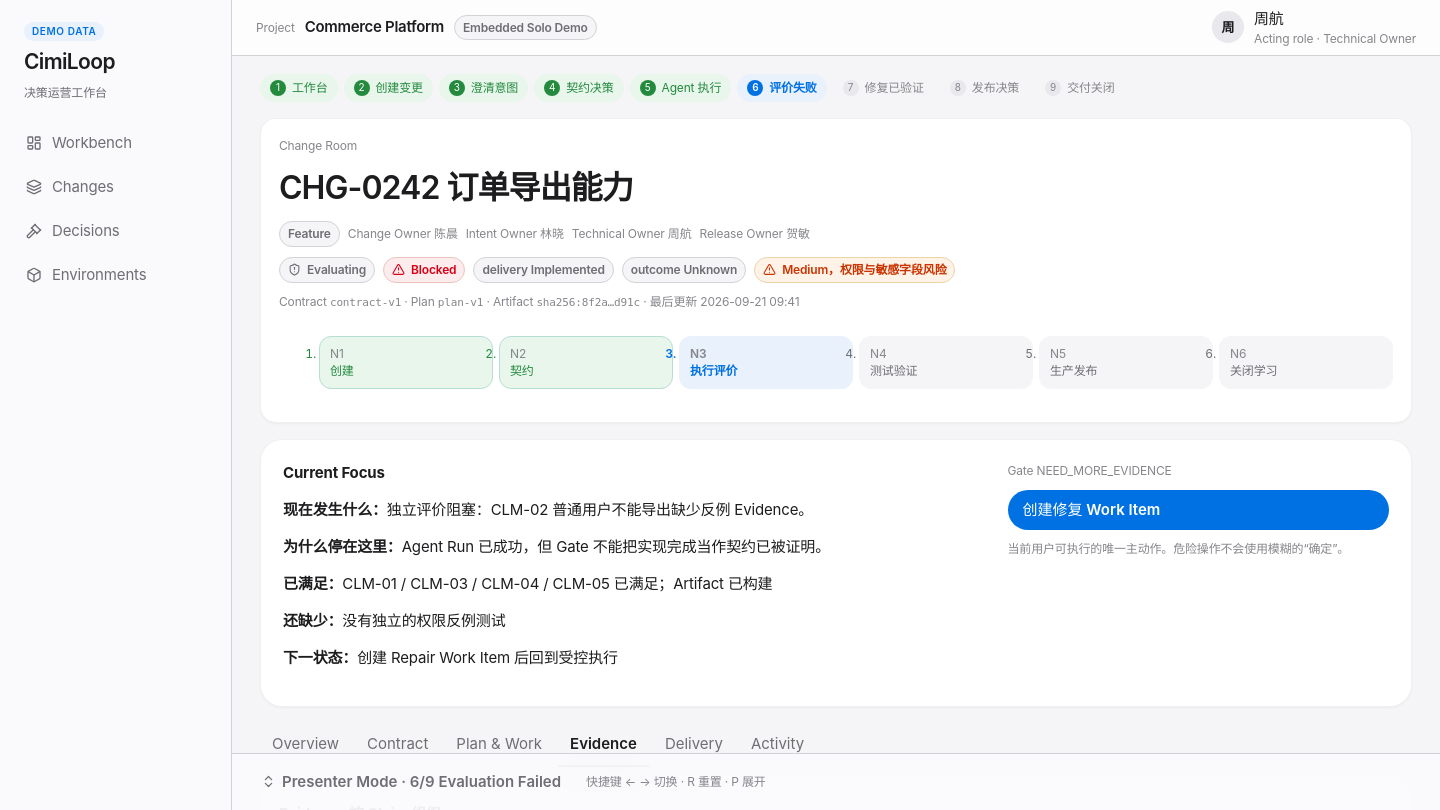
Test case: decision, evidence and delivery flow › marks CLM-02 satisfied after the repair work item completes
Click the button with test id "primary-action".
click(1091, 509)  # box 1008,490 -> 1389,530
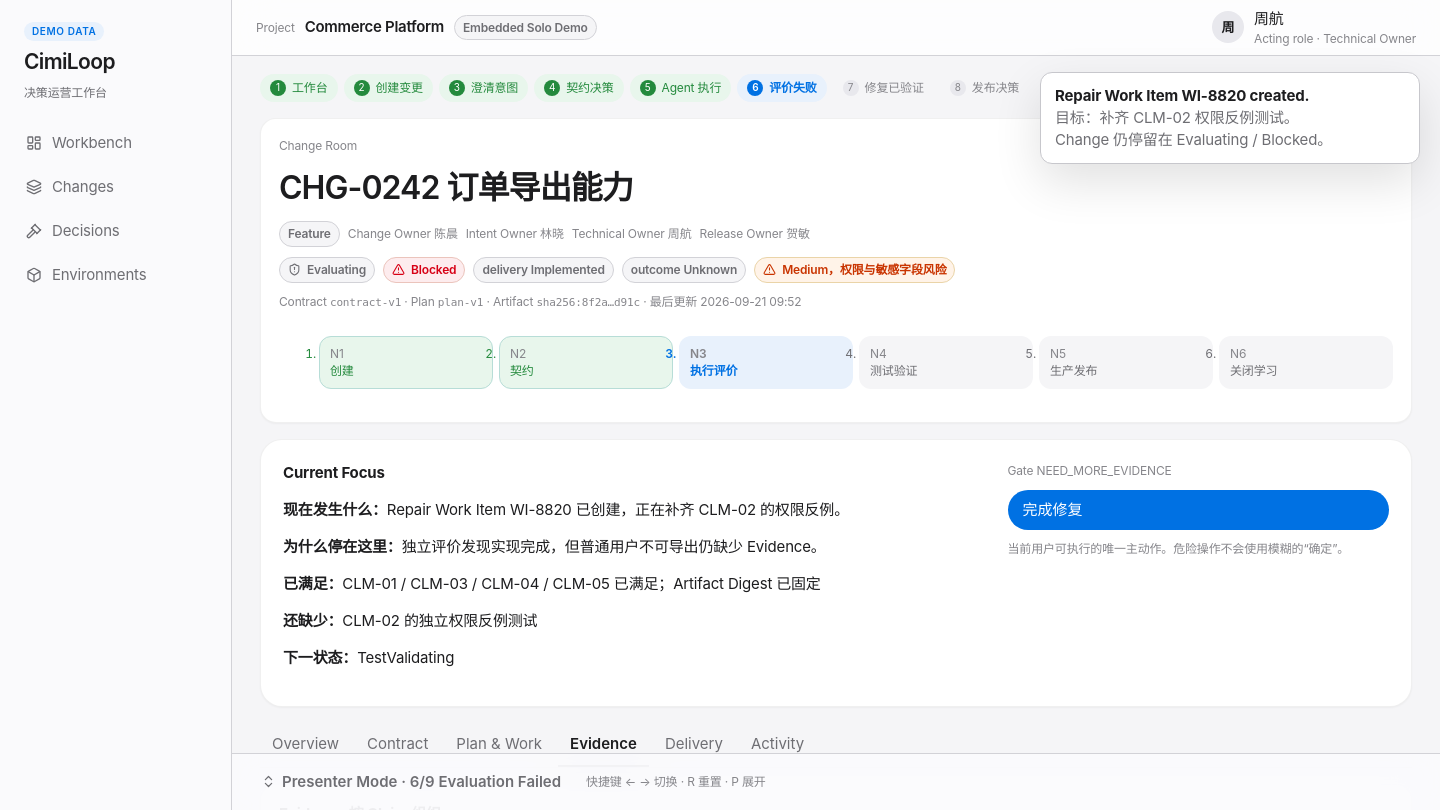
Now the element with test id "current-focus" shows "WI-8820", box 387,500 -> 849,519
Click the button with test id "primary-action".
click(1053, 509)  # box 1008,490 -> 1389,530
Wait 1500 ms
(page scrolled)
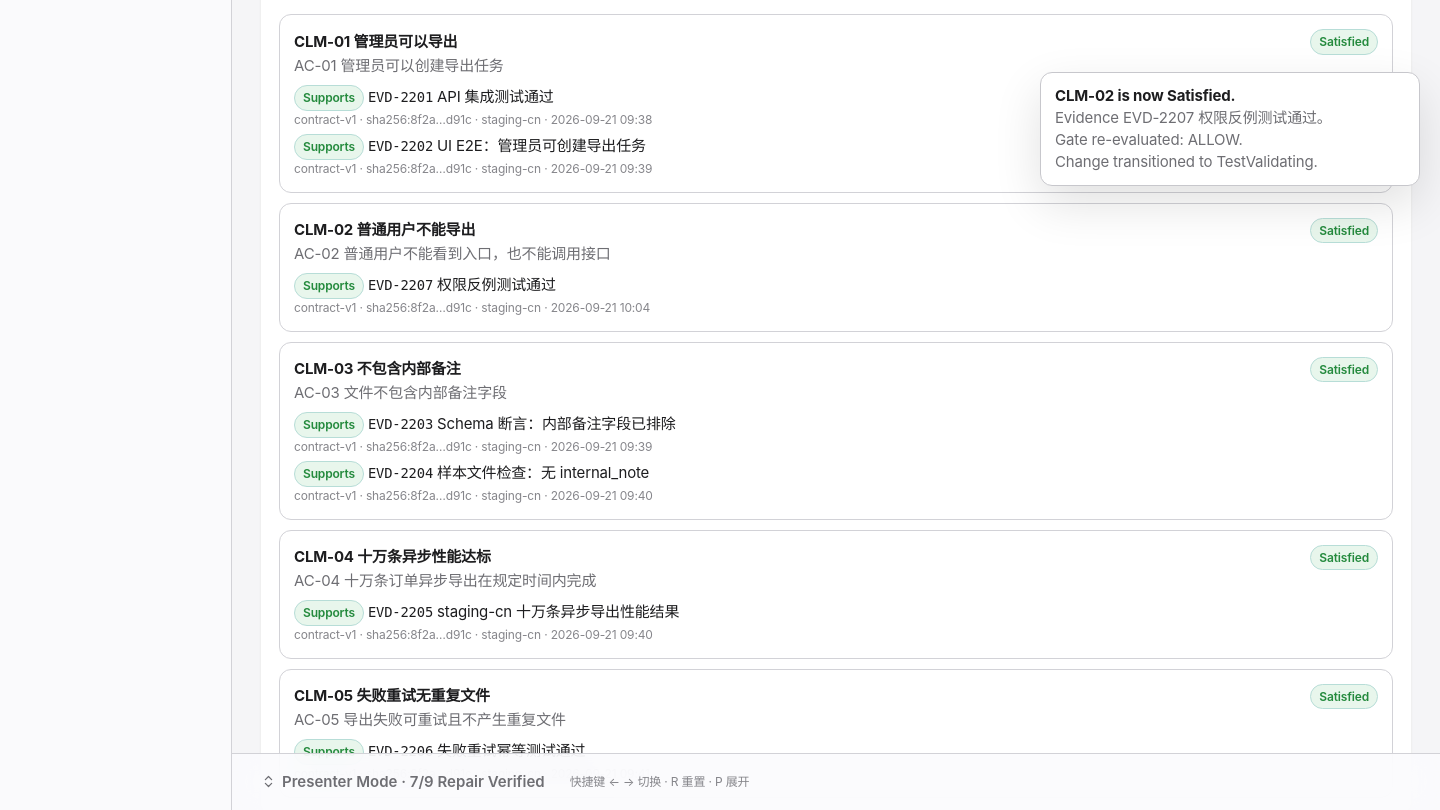
Now the element with test id "evidence-matrix" shows "EVD-2207", box 368,277 -> 433,293
Now the element with test id "evidence-matrix" shows "权限反例测试通过", box 437,275 -> 556,294
